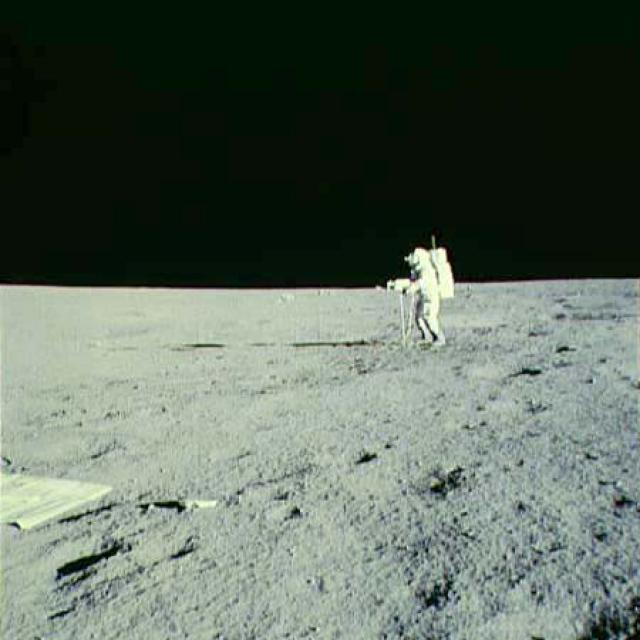crater: (394, 556, 499, 632), (29, 534, 148, 588), (392, 460, 492, 506), (470, 351, 548, 405), (302, 428, 388, 476)
